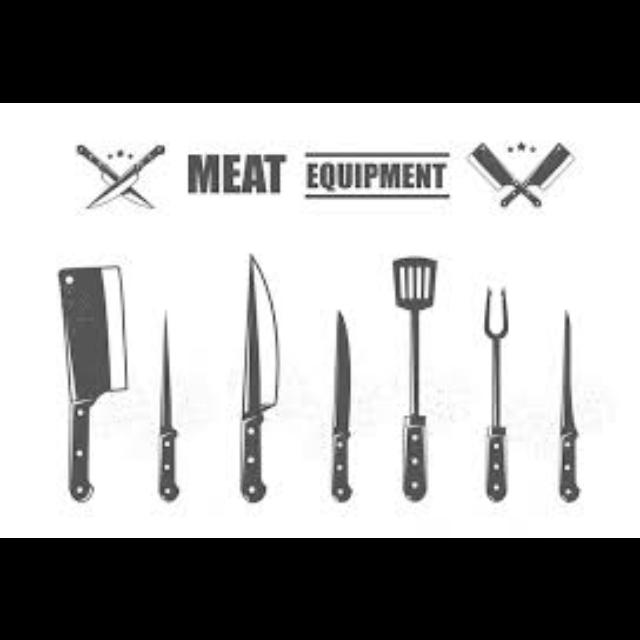Knife: (57, 262, 127, 500), (238, 250, 278, 502), (72, 141, 154, 215), (90, 144, 178, 210), (466, 140, 542, 206), (499, 140, 571, 206), (330, 307, 350, 499), (158, 307, 178, 499), (558, 307, 578, 499)
